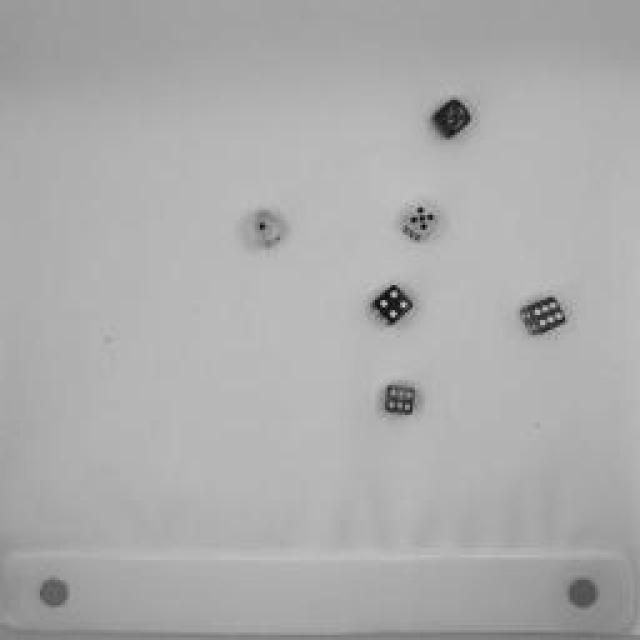dice_1: (241, 209, 289, 256)
dice_4: (369, 284, 416, 331)
dice_5: (420, 90, 478, 145), (396, 194, 444, 246)
dice_6: (516, 289, 574, 346), (384, 381, 421, 424)
